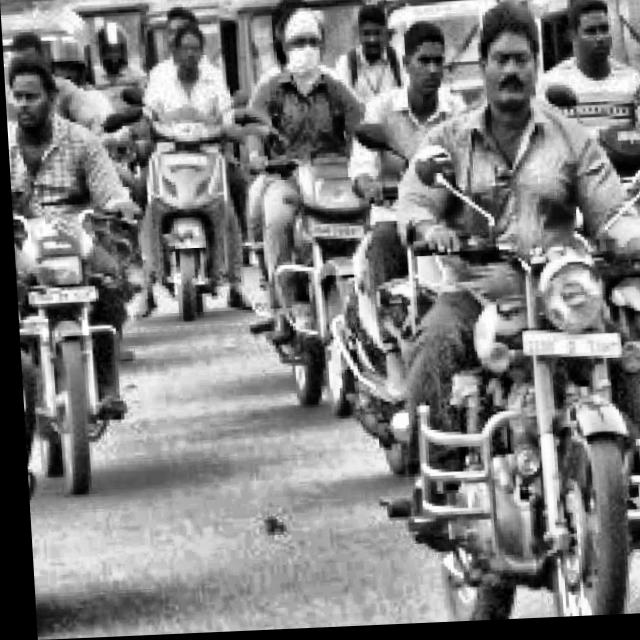motorcycle: (372, 141, 640, 627), (242, 115, 402, 419), (9, 182, 137, 494), (125, 86, 241, 323)
